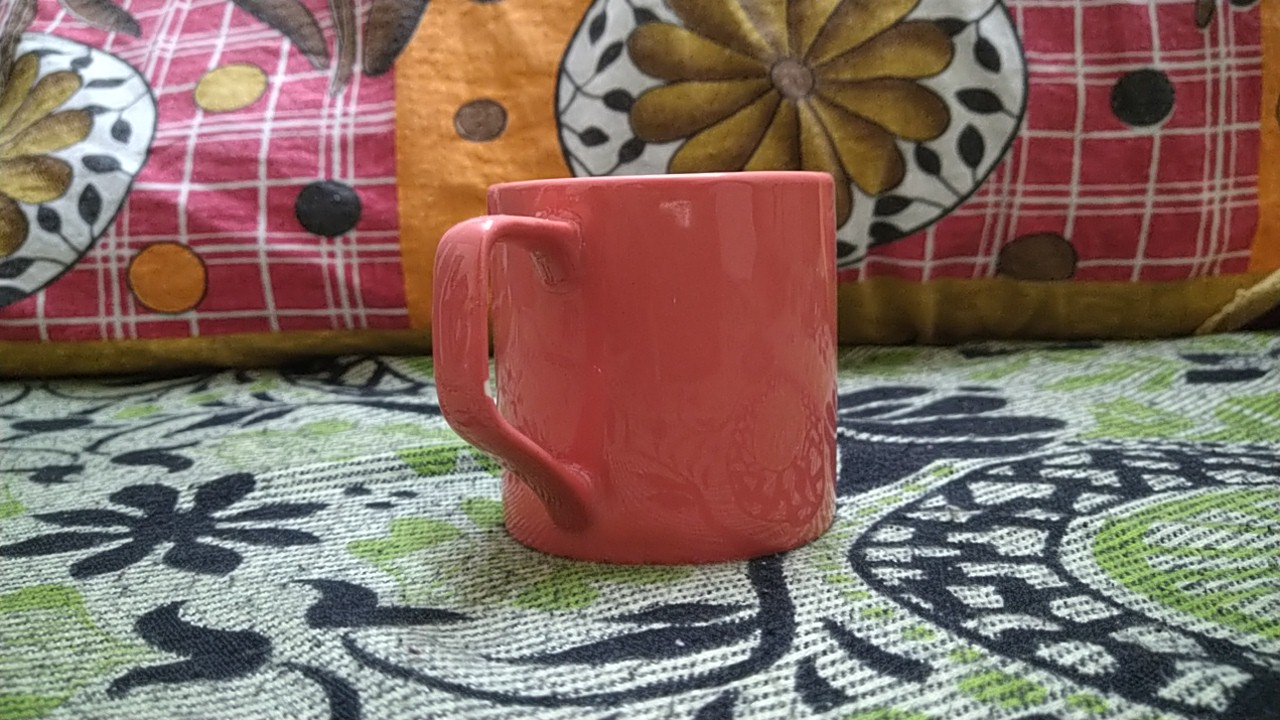cup: (420, 164, 862, 573)
